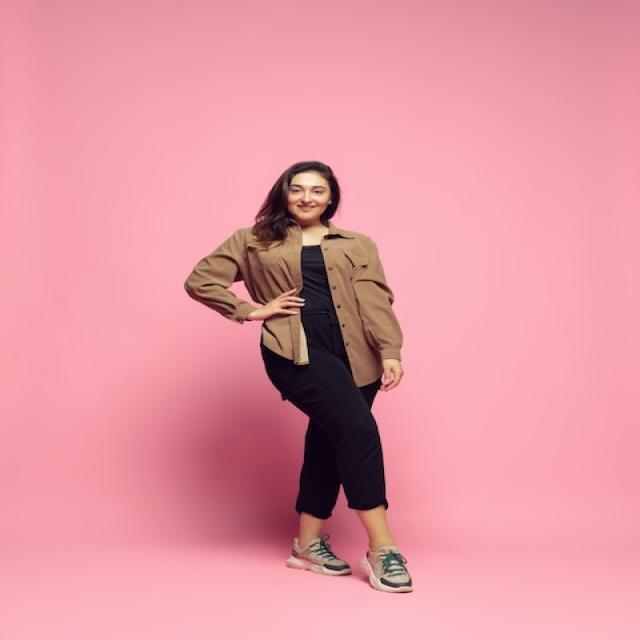Person: (183, 161, 415, 594)
